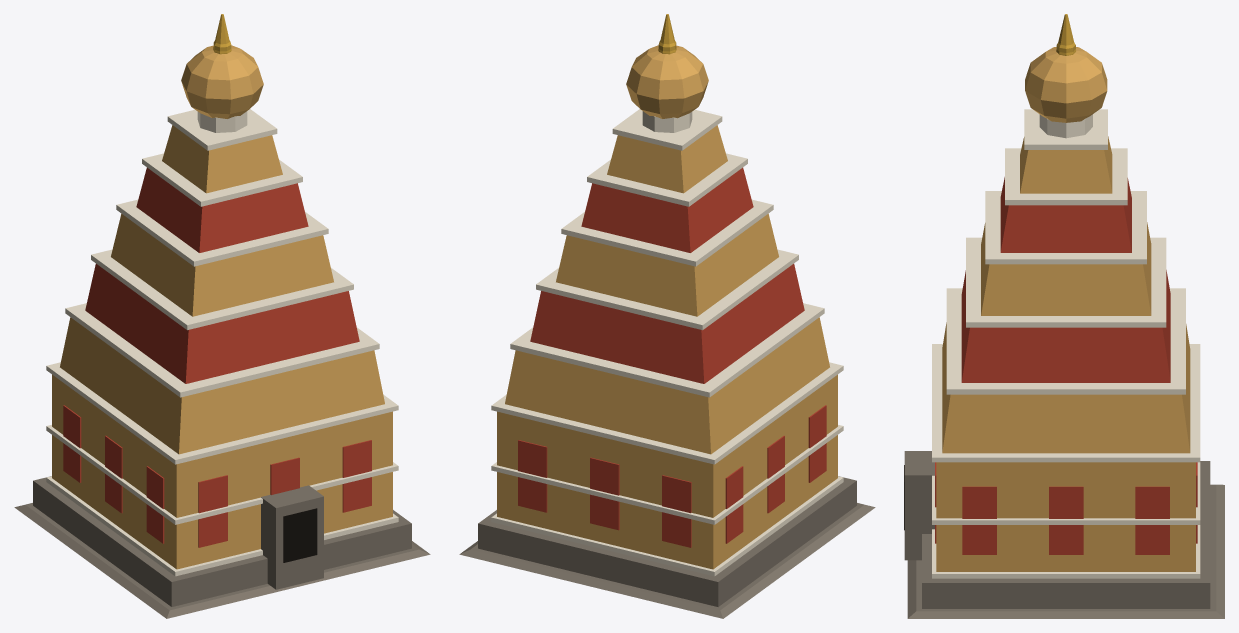
The model's file is bld_ot_vimana.glb.
3 views of the same model, side by side, from view 1: azimuth 30°, elevation 25°; view 2: azimuth 150°, elevation 25°; view 3: azimuth 270°, elevation 25° (orthographic). The views are drawn at different scales.
Visible parts, largest first — view 1: bld_ot_vimana; view 2: bld_ot_vimana; view 3: bld_ot_vimana.
Part boxes in pixels (x1,y1,x2,y2): bld_ot_vimana: [14, 14, 430, 618]; bld_ot_vimana: [459, 14, 875, 618]; bld_ot_vimana: [904, 14, 1224, 618].
Size of what is drawn, in the model's own units: 11 by 20.55 by 11.12.
